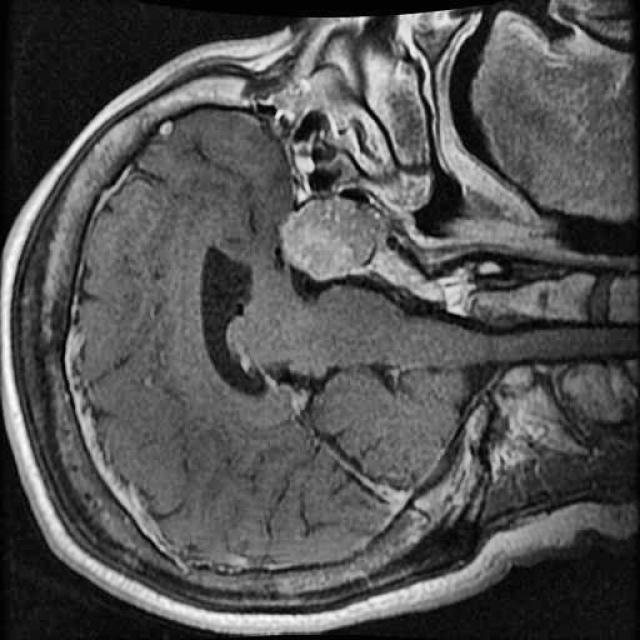Tumor: (254, 175, 412, 299)
